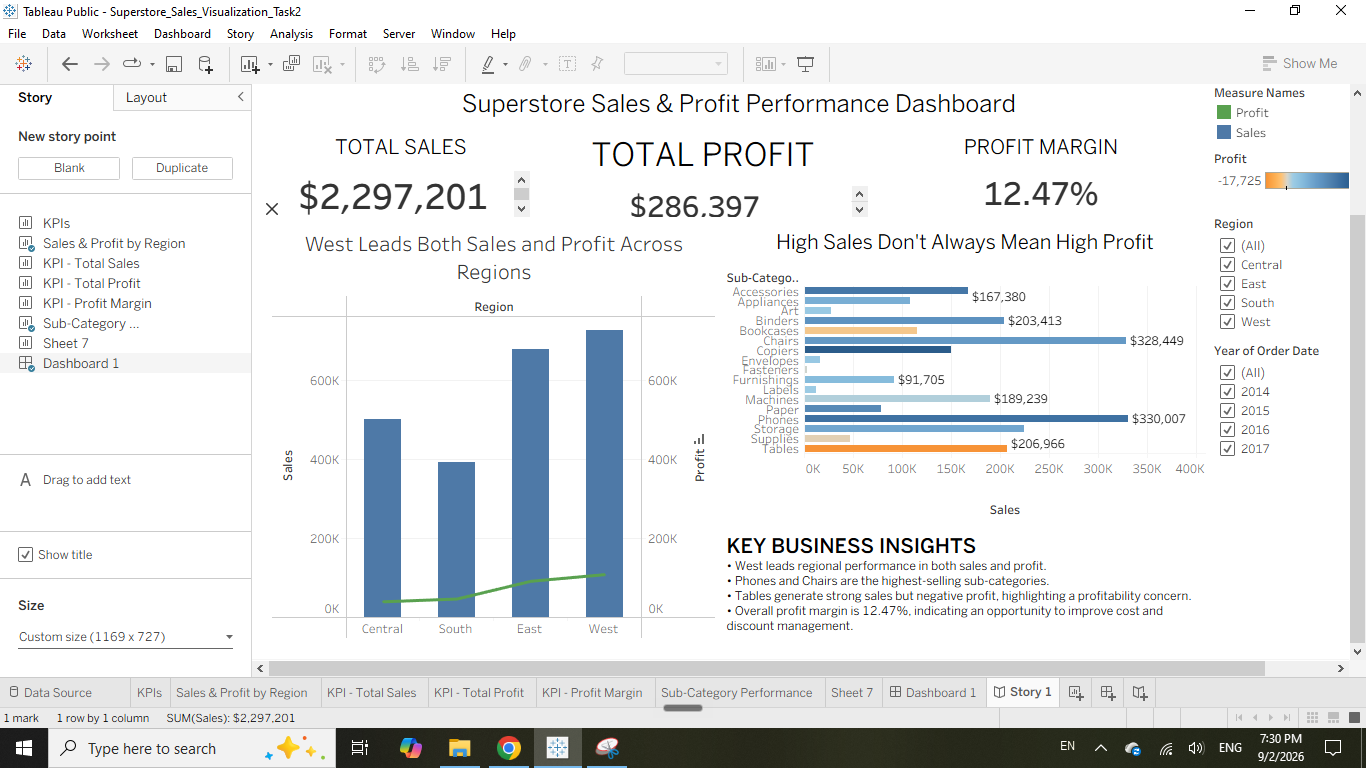

The dashboard page shown, as its layout file describes it:
{"tool":"tableau","page":{"name":"Dashboard 1","canvas":[1220,860],"ordinal":0},"visuals":[{"type":"title","box":[8,8,1007,46]},{"type":"legend","title":"Sales & Profit by Region","param":"[federated.0rk4u0i0g0tjxf160nds50mv8qcu].[:Measure Names]","box":[1015,8,195,66]},{"type":"worksheet","title":"KPI - Total Sales","mark":"Text","box":[8,54,266,141]},{"type":"worksheet","title":"KPI - Total Profit","mark":"Automatic","box":[274,54,370.5,141]},{"type":"worksheet","title":"KPI - Profit Margin","mark":"Automatic","box":[644.5,54,370.5,141]},{"type":"legend","title":"Sub-Category Performance","param":"[federated.0rk4u0i0g0tjxf160nds50mv8qcu].[sum:Profit:qk]","box":[1015,74,195,65]},{"type":"filter","title":"Sales & Profit by Region","param":"[federated.0rk4u0i0g0tjxf160nds50mv8qcu].[none:Region:nk]","box":[1015,139,195,127]},{"type":"worksheet","title":"Sales & Profit by Region","mark":"Bar","rows":["Sales","Profit"],"cols":["Region"],"box":[8,220,483,632]},{"type":"worksheet","title":"Sub-Category Performance","mark":"Automatic","rows":["Sub-Category"],"cols":["Sales"],"box":[491,220,524,461]},{"type":"filter","title":"Sales & Profit by Region","param":"[federated.0rk4u0i0g0tjxf160nds50mv8qcu].[yr:Order Date:ok]","box":[1015,266,195,127]},{"type":"text","box":[491,681,524,171]}]}

Visuals, with their boxes on the page's 1220x860 design canvas (x1, y1, x2, y2). These are canvas units, not pixel positions in the 1366x768 screenshot, which may show the page scaled, cropped or inside an application window:
title: (left=8, top=8, right=1015, bottom=54)
"Sales & Profit by Region" legend: (left=1015, top=8, right=1210, bottom=74)
"KPI - Total Sales" worksheet (Text marks): (left=8, top=54, right=274, bottom=195)
"KPI - Total Profit" worksheet: (left=274, top=54, right=644, bottom=195)
"KPI - Profit Margin" worksheet: (left=644, top=54, right=1015, bottom=195)
"Sub-Category Performance" legend: (left=1015, top=74, right=1210, bottom=139)
"Sales & Profit by Region" filter: (left=1015, top=139, right=1210, bottom=266)
"Sales & Profit by Region" worksheet (Bar marks): (left=8, top=220, right=491, bottom=852)
"Sub-Category Performance" worksheet: (left=491, top=220, right=1015, bottom=681)
"Sales & Profit by Region" filter: (left=1015, top=266, right=1210, bottom=393)
text: (left=491, top=681, right=1015, bottom=852)
